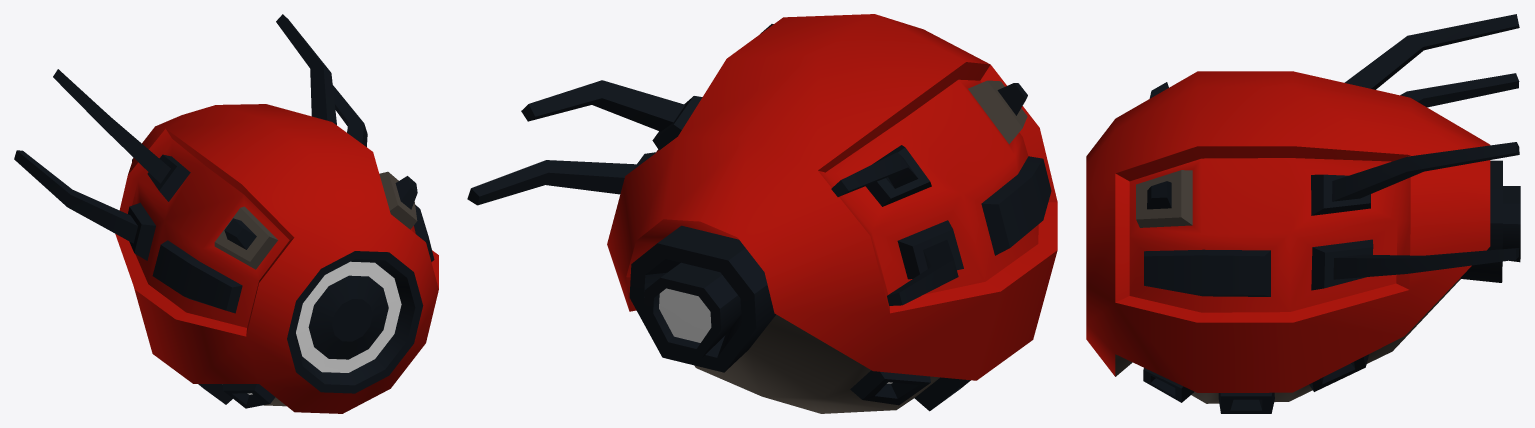
The model's file is droneSwarm.fbx.
3 views of the same model, side by side, from view 1: azimuth 30°, elevation 25°; view 2: azimuth 150°, elevation 25°; view 3: azimuth 270°, elevation 25° (orthographic). The views are drawn at different scales.
Parts seen in each view (by area): view 1: SM_Prop_Drone_Ball_01.001; view 2: SM_Prop_Drone_Ball_01.001; view 3: SM_Prop_Drone_Ball_01.001.
Part boxes in pixels (x1,y1,x2,y2): SM_Prop_Drone_Ball_01.001: (14, 14, 438, 413); SM_Prop_Drone_Ball_01.001: (467, 14, 1057, 413); SM_Prop_Drone_Ball_01.001: (1086, 14, 1520, 413).
Bounding box in the file's own units: 0.6959 × 0.7168 × 0.5691.
